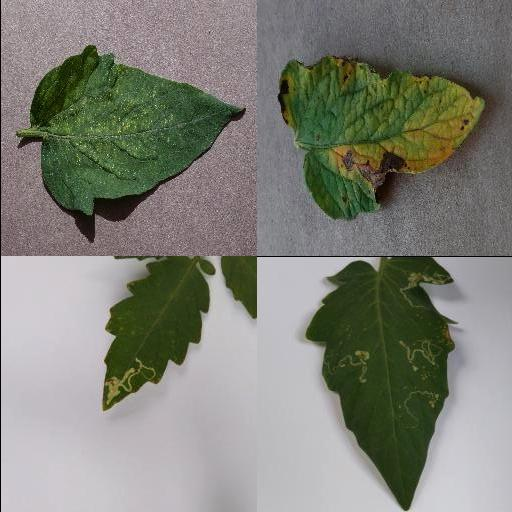Early Blight: (277, 58, 487, 221)
Leaf Miner: (305, 256, 455, 511), (100, 256, 208, 412)
Spider Mites: (30, 45, 246, 217)
